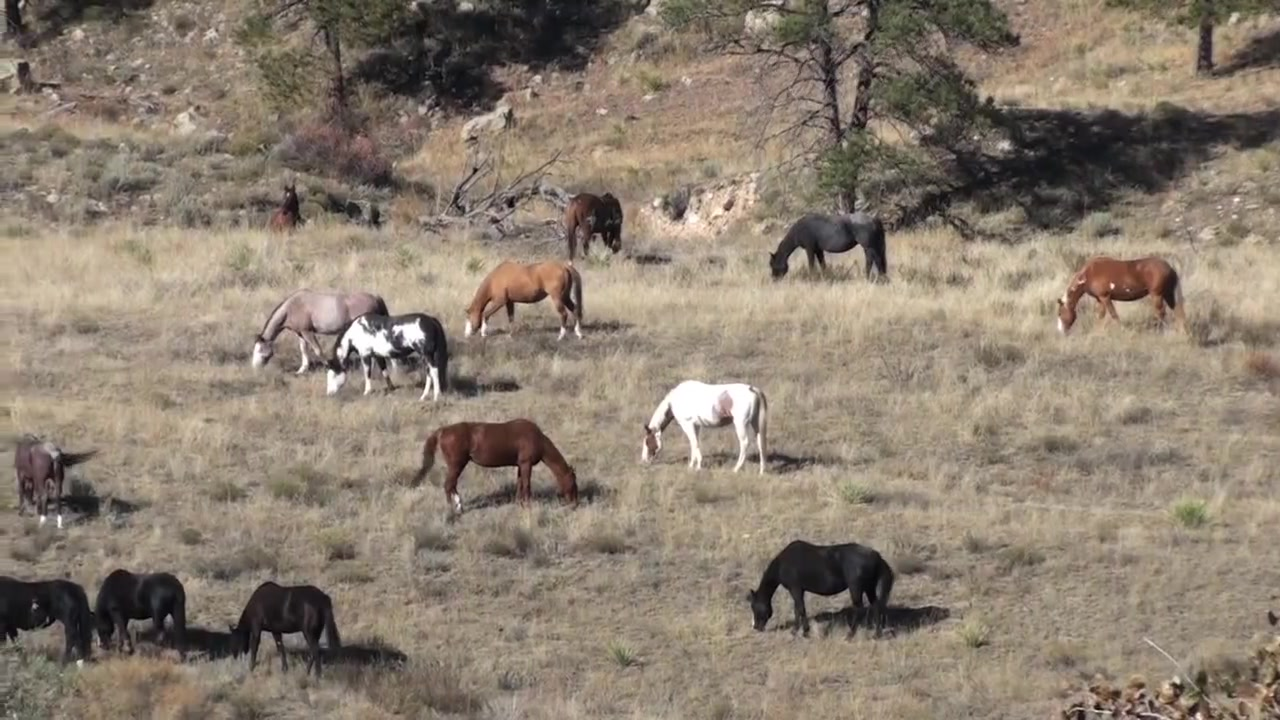horse: (638, 379, 776, 478)
